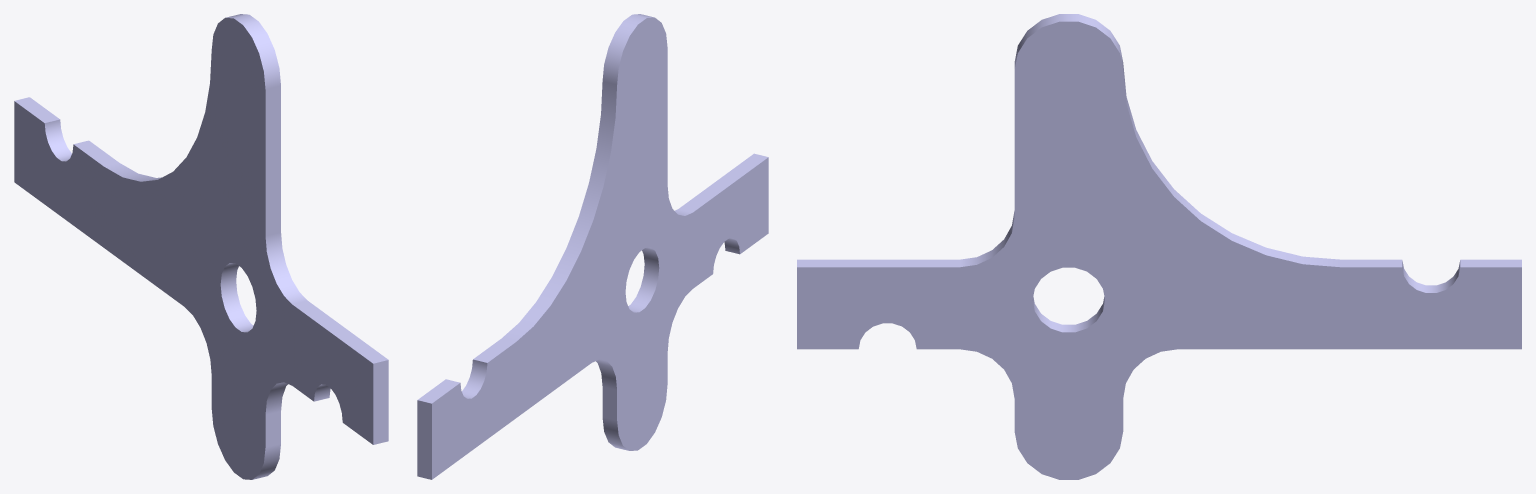
Rendered from 32 Pawl.fbx.
3 views of the same model, side by side, from view 1: azimuth 30°, elevation 25°; view 2: azimuth 150°, elevation 25°; view 3: azimuth 270°, elevation 25° (orthographic). The views are drawn at different scales.
Parts seen in each view (by area): view 1: PartBody; view 2: PartBody; view 3: PartBody.
Part boxes in pixels (box(x1,y1,x2,y2)): PartBody: box(14, 14, 388, 479); PartBody: box(417, 14, 768, 479); PartBody: box(797, 14, 1521, 479).
Bounding box in the file's own units: 0.1969 × 5.49 × 7.87.
